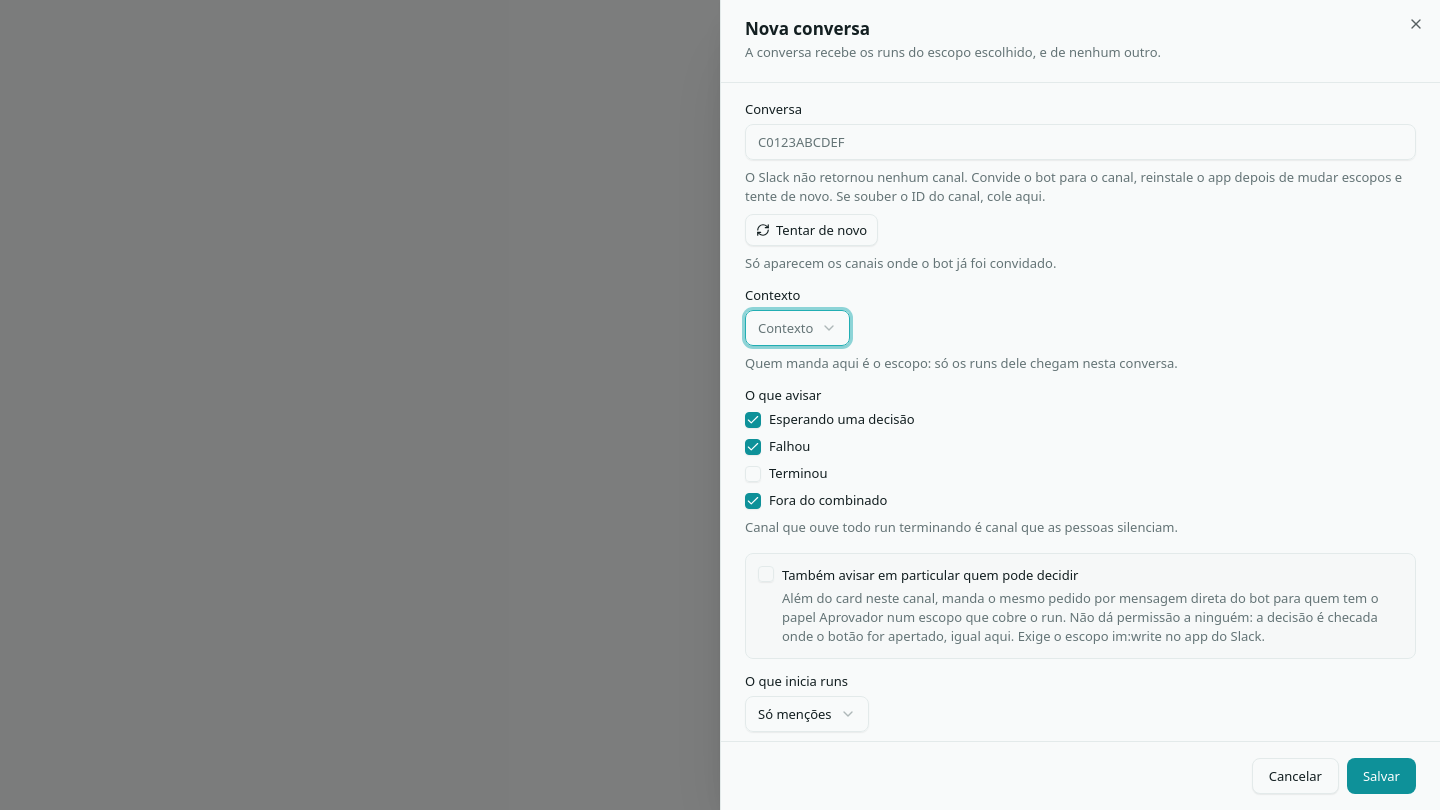
Test: conversation configuration › shows the watch rule only when selected
The image size is (1440, 810).
expect the text "O que avisar" is shown: met, box 745,386 -> 821,404
expect the text "Fontes Slack permitidas" is not shown: met
Click the dropdown named "O que inicia runs": (807,714) 745,696 -> 869,732
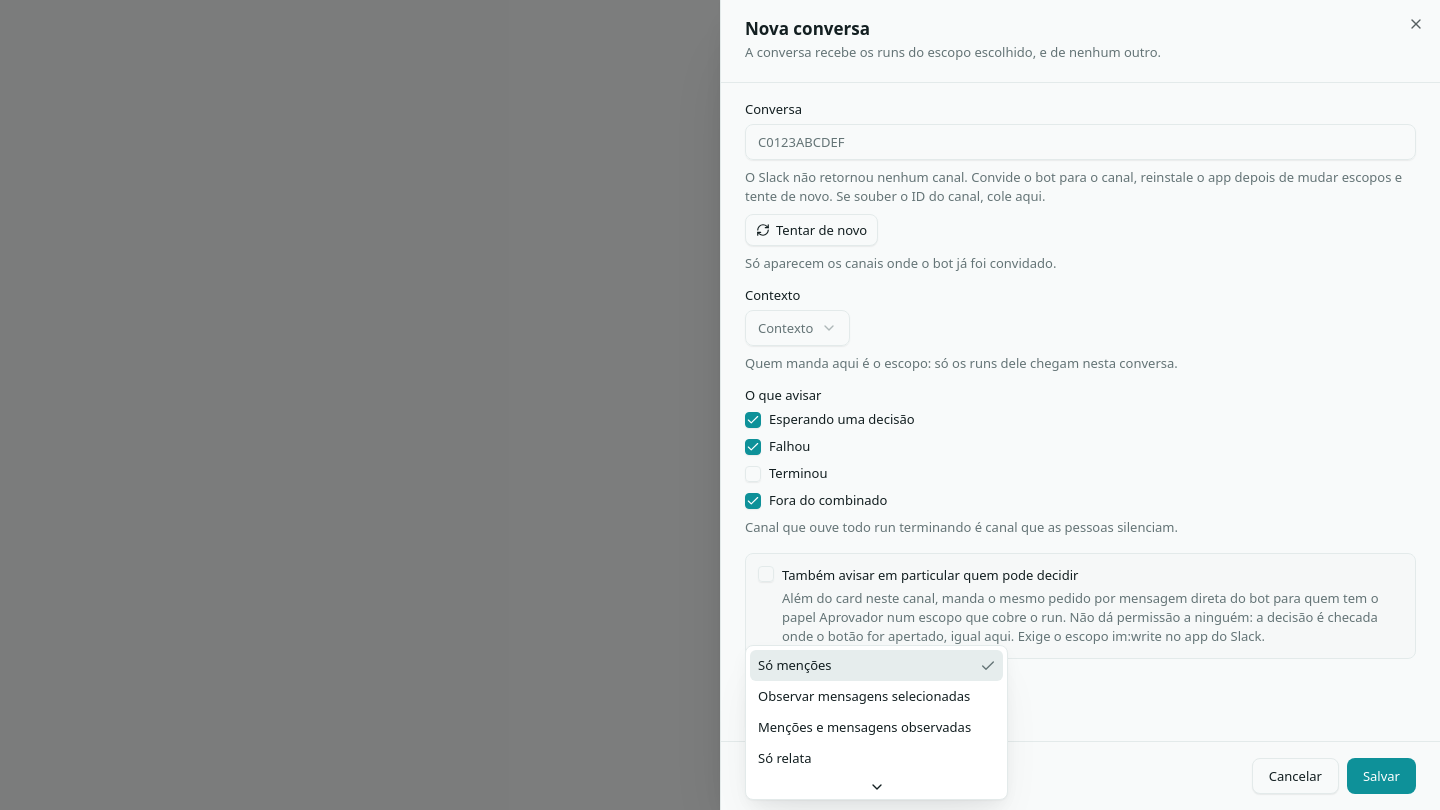
Click the option "Observar mensagens selecionadas": (864,696) 758,687 -> 970,705
(page scrolled)
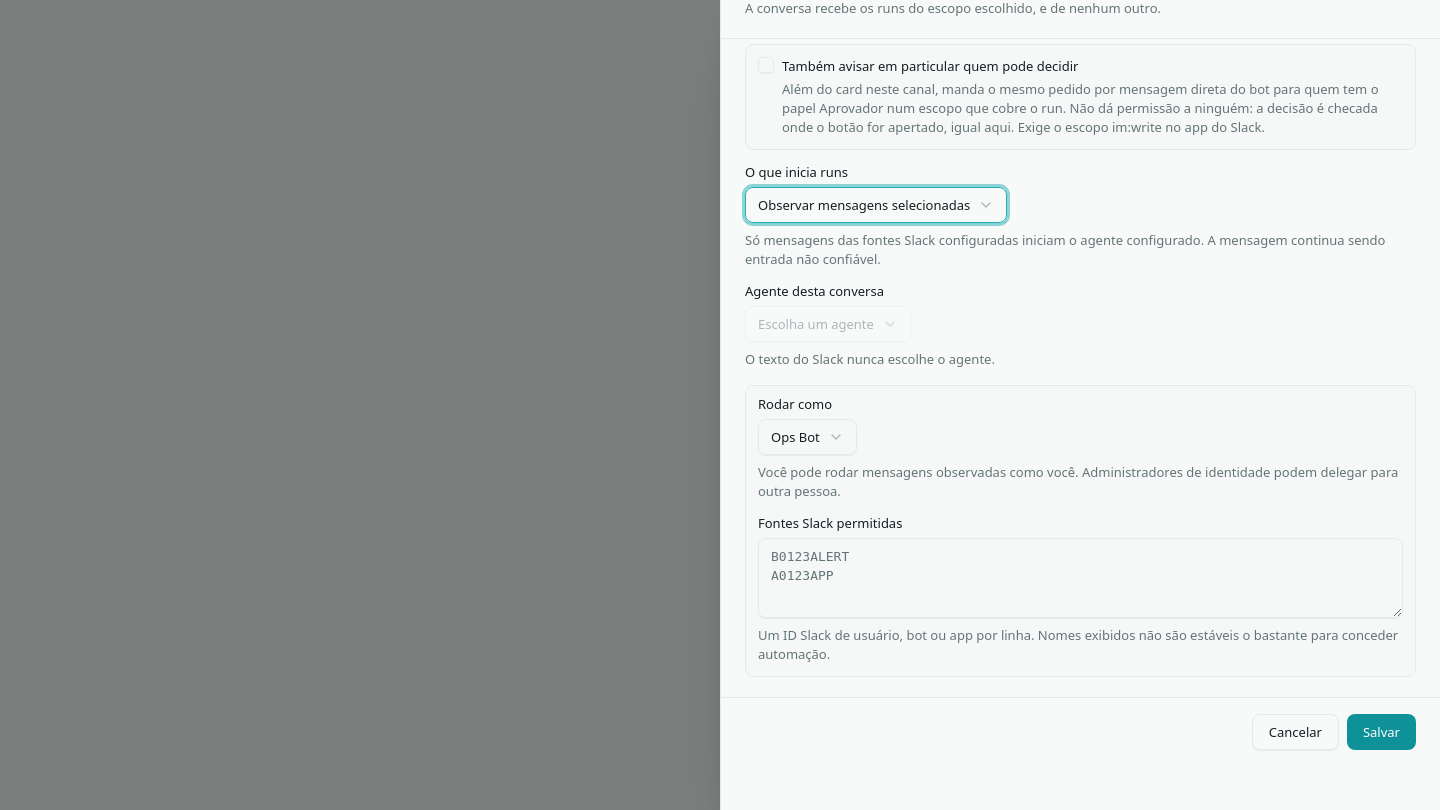
expect the text "Agente desta conversa" is shown: met, box 745,282 -> 884,300
expect the text "Fontes Slack permitidas" is shown: met, box 758,514 -> 902,532
expect the text "Rodar como" is shown: met, box 758,395 -> 832,413
